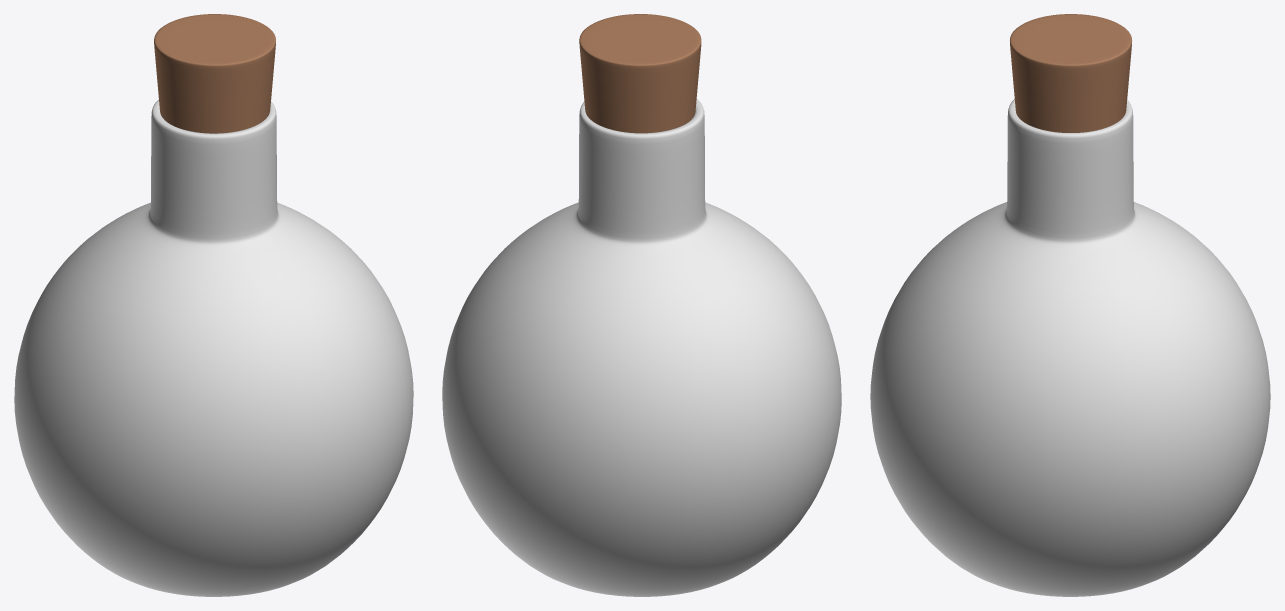
Rendered from frasco.fbx.
The picture shows the model from 3 angles, left to right: view 1: azimuth 30°, elevation 25°; view 2: azimuth 150°, elevation 25°; view 3: azimuth 270°, elevation 25°; orthographic projection.
Parts seen in each view (by area): view 1: garrafa, rolha; view 2: garrafa, rolha; view 3: garrafa, rolha.
Part boxes in pixels (x1,y1,x2,y2): garrafa: (14,99,413,596); rolha: (154,14,275,133); garrafa: (442,99,841,596); rolha: (579,14,701,133); garrafa: (870,99,1270,596); rolha: (1010,14,1131,132).
Bounding box in the file's own units: 193 × 277 × 193.
